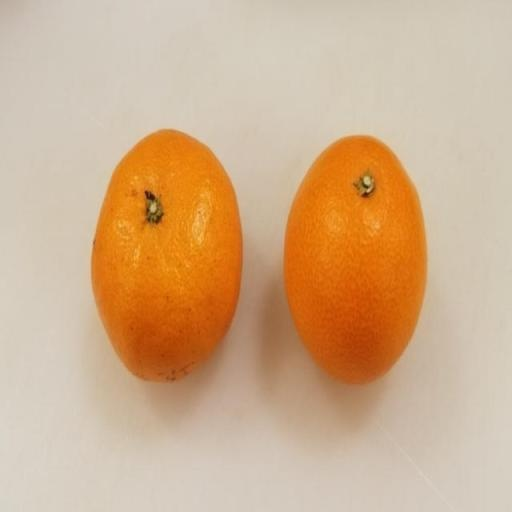fruit: (92, 130, 241, 380), (284, 136, 426, 383)
